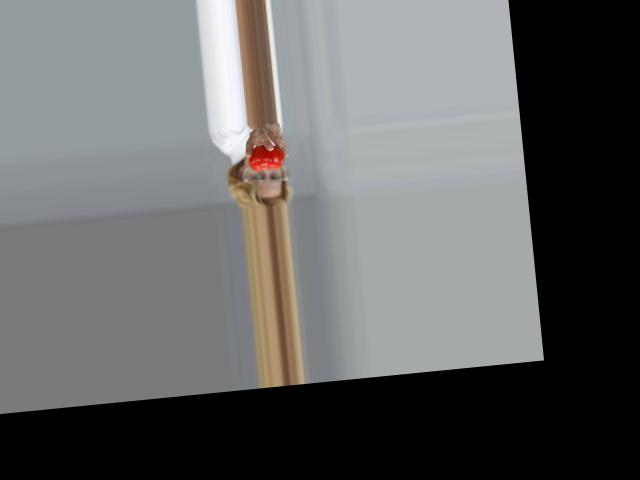tomato: (245, 143, 284, 171)
